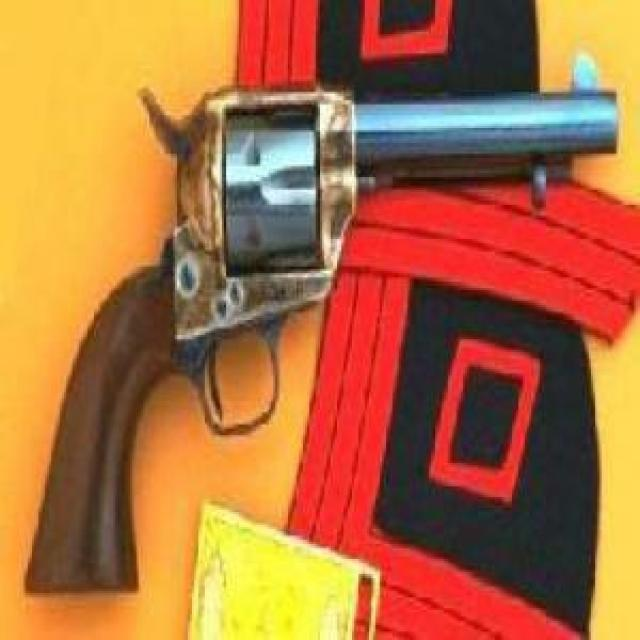pistol: (23, 56, 621, 598)
